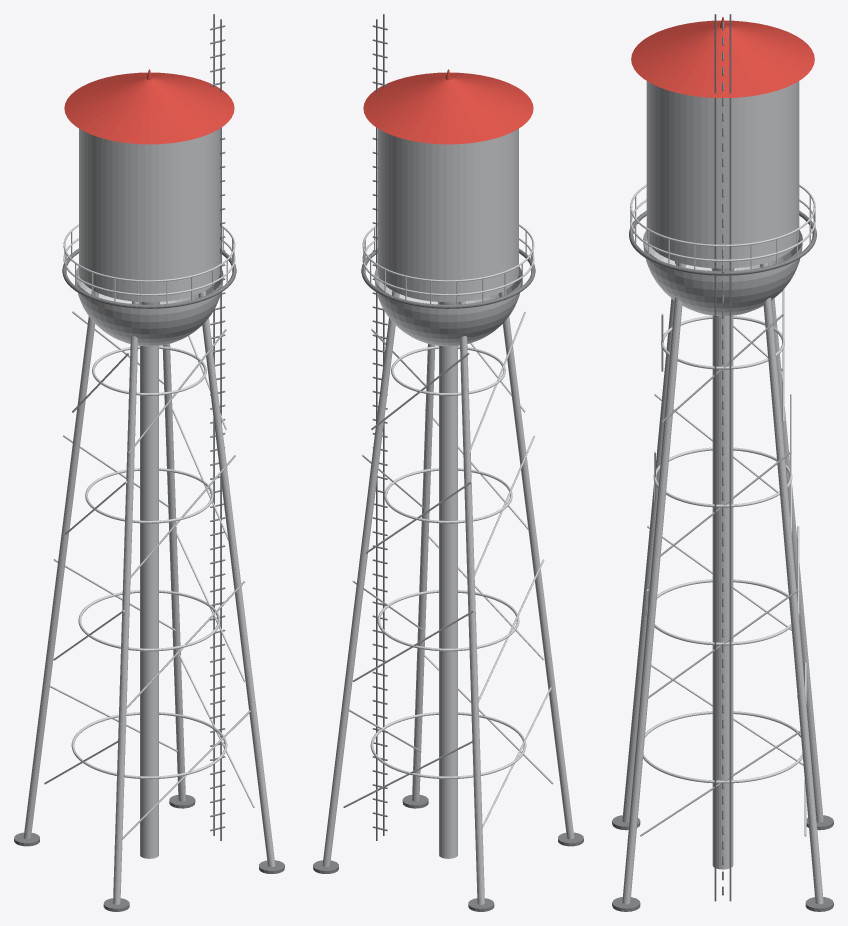
The model's file is elk-river-historic-watertower.glb.
3 views of the same model, side by side, from view 1: azimuth 30°, elevation 25°; view 2: azimuth 150°, elevation 25°; view 3: azimuth 270°, elevation 25° (orthographic). The views are drawn at different scales.
Visible parts, largest first — view 1: ER_Tank, ER_Roof, ER_Riser, ER_Bowl, ER_Leg_0, ER_Leg_1, ER_Leg_3, ER_Leg_2, ER_LadderRail_-0.2, ER_CatwalkDeck, ER_BraceRing_0, ER_BraceRing_1 (+5 smaller); view 2: ER_Tank, ER_Roof, ER_Riser, ER_Bowl, ER_Leg_3, ER_Leg_2, ER_Leg_0, ER_Leg_1, ER_LadderRail_0.2, ER_CatwalkDeck, ER_BraceRing_0, ER_BraceRing_1 (+5 smaller); view 3: ER_Tank, ER_Roof, ER_Riser, ER_Bowl, ER_Leg_1, ER_Leg_2, ER_Leg_0, ER_Leg_3, ER_LadderRail_0.2, ER_LadderRail_-0.2, ER_CatwalkDeck, ER_BraceRing_0 (+6 smaller).
Part boxes in pixels (x1,y1,x2,y2): ER_Tank: (79,128,219,302); ER_Roof: (64,72,234,144); ER_Riser: (140,346,158,858); ER_Bowl: (76,266,223,346); ER_Leg_0: (113,301,139,904); ER_Leg_1: (198,290,275,866); ER_Leg_3: (23,290,98,839); ER_Leg_2: (162,344,185,801); ER_LadderRail_-0.2: (220,19,221,840); ER_CatwalkDeck: (62,248,236,308); ER_BraceRing_0: (71,712,227,779); ER_BraceRing_1: (78,590,220,651); ER_Tank: (378,128,518,302); ER_Roof: (363,72,533,144); ER_Riser: (439,346,457,858); ER_Bowl: (374,266,521,346); ER_Leg_3: (458,301,484,904); ER_Leg_2: (322,290,399,866); ER_Leg_0: (499,290,574,839); ER_Leg_1: (412,344,435,801); ER_LadderRail_0.2: (376,19,377,840); ER_CatwalkDeck: (361,248,535,308); ER_BraceRing_0: (370,712,526,779); ER_BraceRing_1: (377,590,519,651); ER_Tank: (646,81,799,268); ER_Roof: (631,20,814,97); ER_Riser: (712,315,733,869); ER_Bowl: (643,230,802,316); ER_Leg_1: (622,262,685,904); ER_Leg_2: (760,262,823,904); ER_Leg_0: (622,261,677,822); ER_Leg_3: (768,261,823,822); ER_LadderRail_0.2: (729,14,731,901); ER_LadderRail_-0.2: (714,14,716,901); ER_CatwalkDeck: (629,210,816,275); ER_BraceRing_0: (643,711,802,783).
Size of the model in its own units: 5.96 by 26.3 by 5.96.
